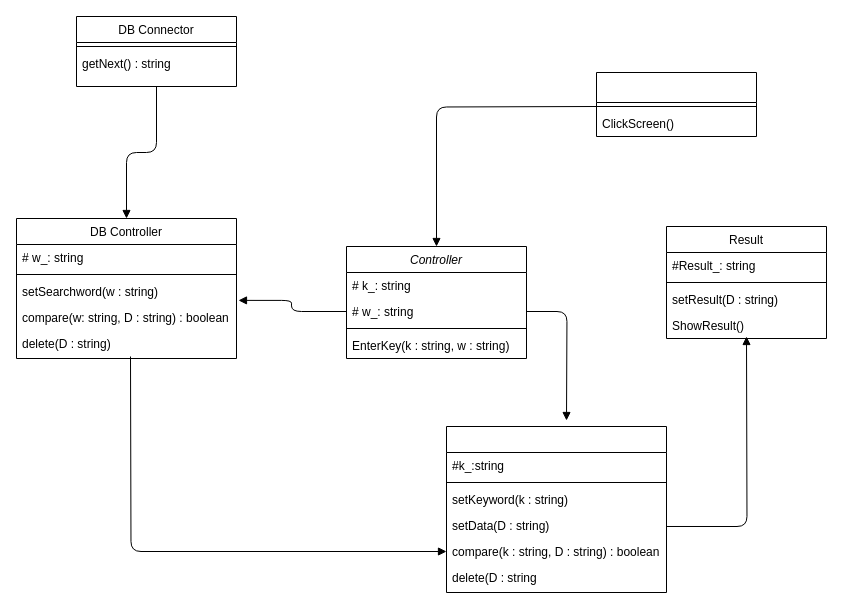
The diagram is 843 pixels wide and 609 high, and some of its shapes have lost their labels. The shapes that lost their labels are listed below. From the top down, each one's box as (x1, y1, x2, y2) in pixels, then its label:
(596, 72, 756, 136): Move Screen
(446, 426, 666, 592): Keyword Filter
